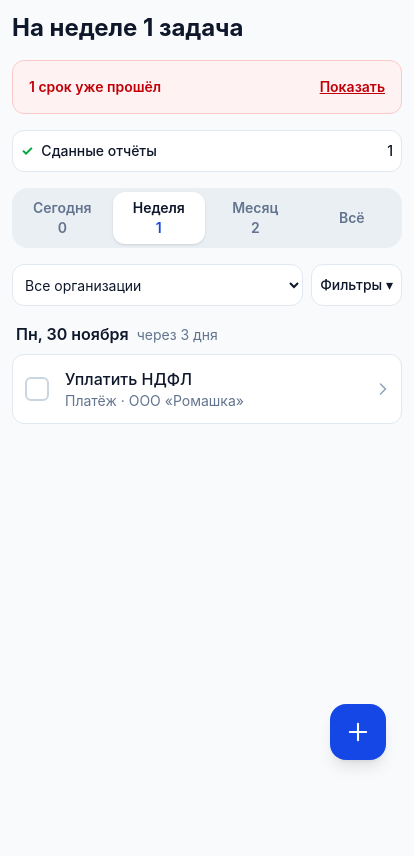
Scenario: экран задач › показывает и снова прячет прошедшие сроки по нажатию
Click the button "Показать" at [352, 87], box x1=320 y1=73 x2=385 y2=101
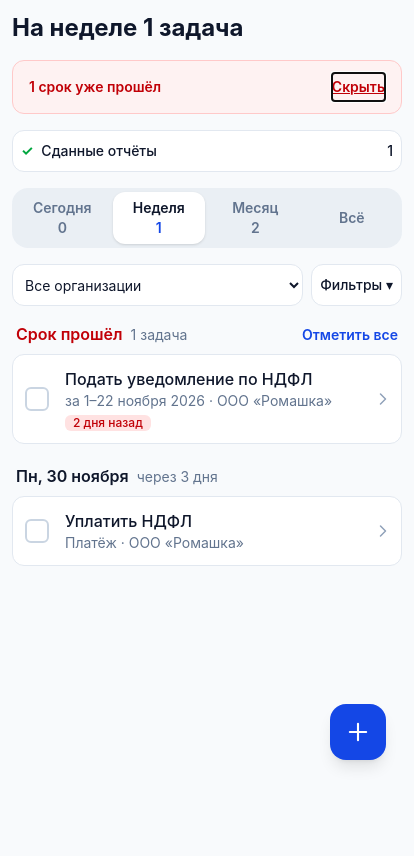
Expected: the text "Подать уведомление по НДФЛ" is shown, x1=65 y1=369 x2=312 y2=389
Expected: the text "за 1–22 ноября 2026 · ООО «Ромашка»" is shown, x1=65 y1=391 x2=332 y2=411
Expected: the text "2 дня назад" is shown, x1=65 y1=415 x2=151 y2=431
Click the button "Скрыть" at [358, 87], box x1=332 y1=73 x2=385 y2=101
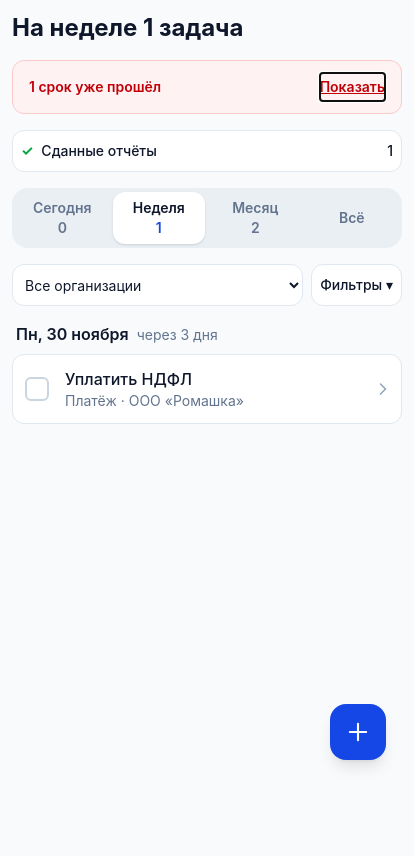
Expected: the link "Подать уведомление по НДФЛ" is gone
